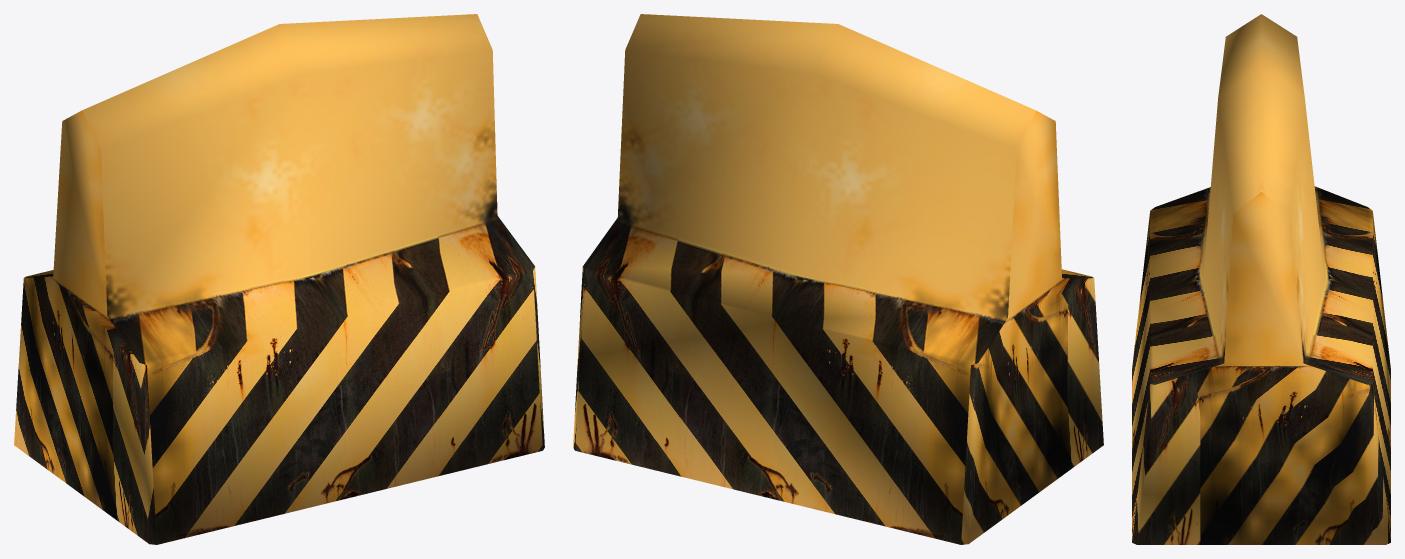
The model's file is barriere_plastique.FBX.
The picture shows the model from 3 angles, left to right: view 1: azimuth 30°, elevation 25°; view 2: azimuth 150°, elevation 25°; view 3: azimuth 270°, elevation 25°; orthographic projection. The views are drawn at different scales.
Visible parts, largest first — view 1: Box060; view 2: Box060; view 3: Box060.
Boxes of the visible parts, x1=… form: Box060: x1=14, y1=14, x2=544, y2=544; Box060: x1=573, y1=14, x2=1103, y2=544; Box060: x1=1132, y1=14, x2=1390, y2=544.
Bounding box in the file's own units: 6945 × 7083 × 4278.
